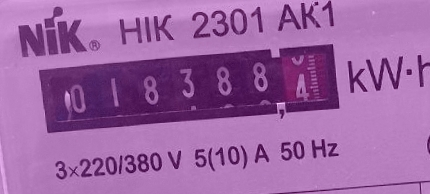0: (66, 79, 89, 116)
1: (104, 72, 124, 110)
3: (177, 64, 199, 101)
4: (290, 69, 312, 103)
8: (248, 57, 272, 95), (139, 70, 162, 107), (213, 63, 235, 99)
screen: (29, 33, 353, 145)
